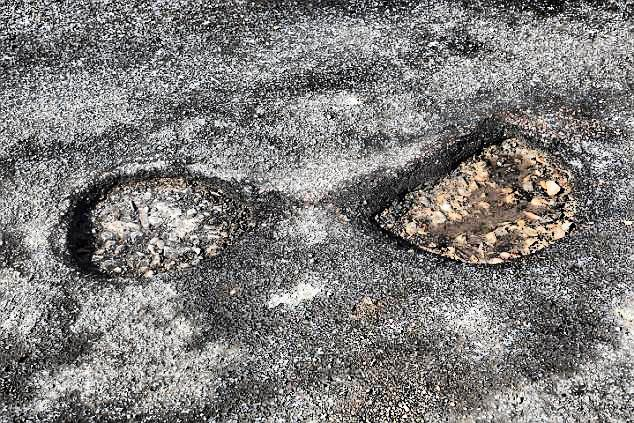pothole: (355, 126, 593, 272), (55, 161, 246, 282)
